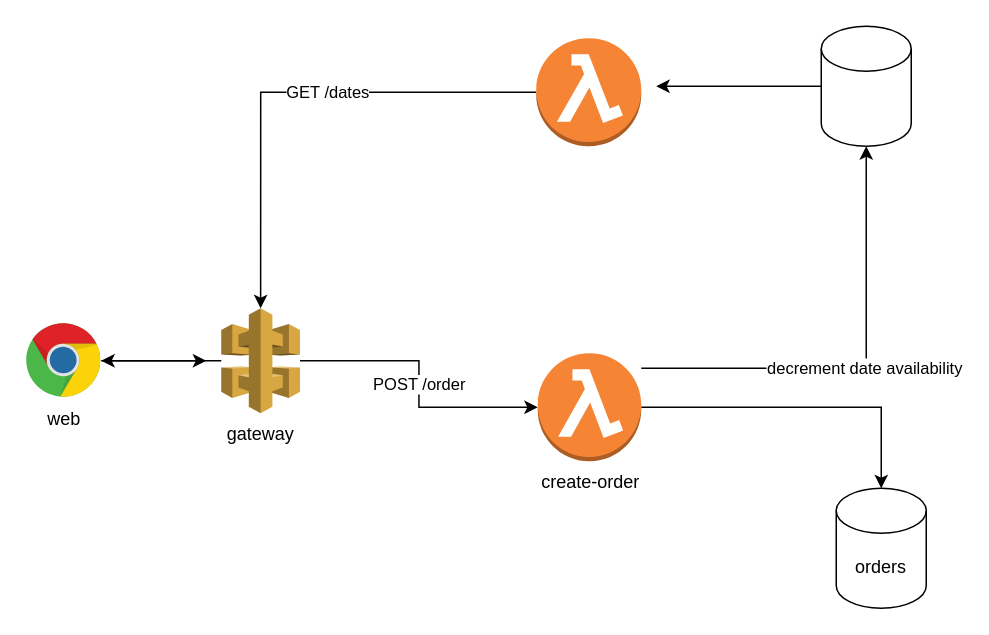
This 989x635 diagram has some shape labels left out. The centre of each missing label's shape, as x and y in pixels:
available-dates: the point at 865,85
get-available-dates: the point at 588,91
